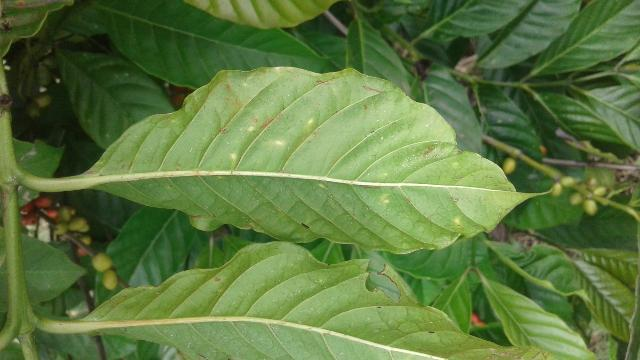rust_level_1: (74, 63, 562, 254)
